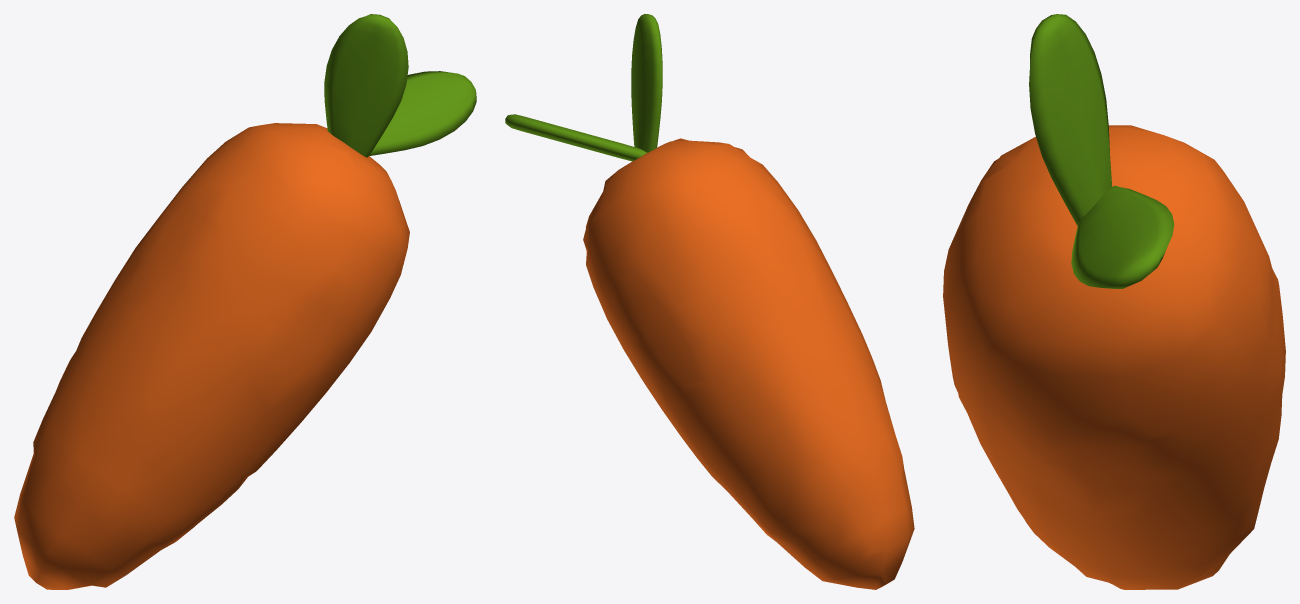
File: carrot.glb
3 renders of one model, left to right at view 1: azimuth 30°, elevation 25°; view 2: azimuth 150°, elevation 25°; view 3: azimuth 270°, elevation 25°, orthographic. The views are drawn at different scales.
Visible parts, largest first — view 1: Cube.223; view 2: Cube.223; view 3: Cube.223.
Boxes of the visible parts, x1=… form: Cube.223: x1=14, y1=14, x2=476, y2=589; Cube.223: x1=505, y1=14, x2=914, y2=589; Cube.223: x1=943, y1=14, x2=1285, y2=589.
Size of the model in its own units: 1.75 by 2.01 by 0.8408.
